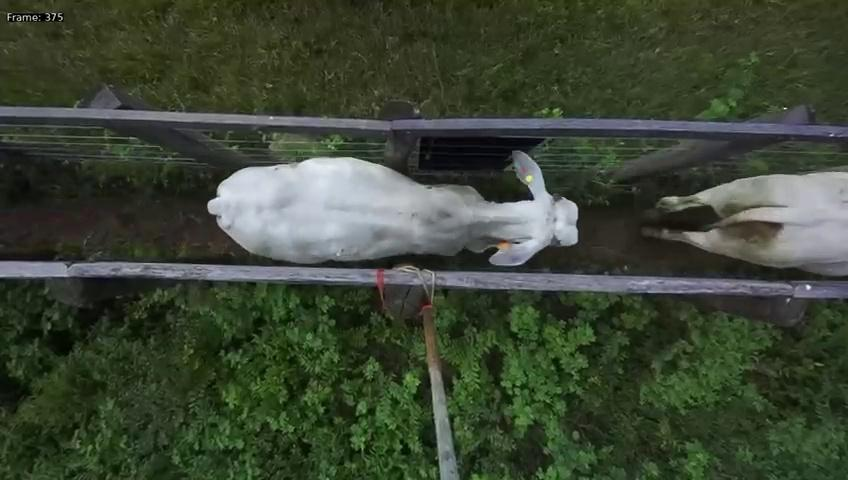cattle: (201, 132, 581, 267)
